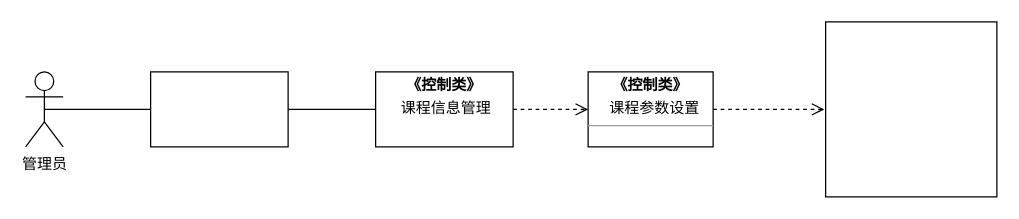
Image size: 1019x219. Some labels were removed from this diagram. The shapes that lost their labels are listed below. From the top down, each one's centre as x and y in pixels, then its label:
[218,109]: 《界面类》 课程信息管理员界面
[910,109]: 《实体类》 课程信息 +课程ID +课程名称 +授课教师 +上课学生
